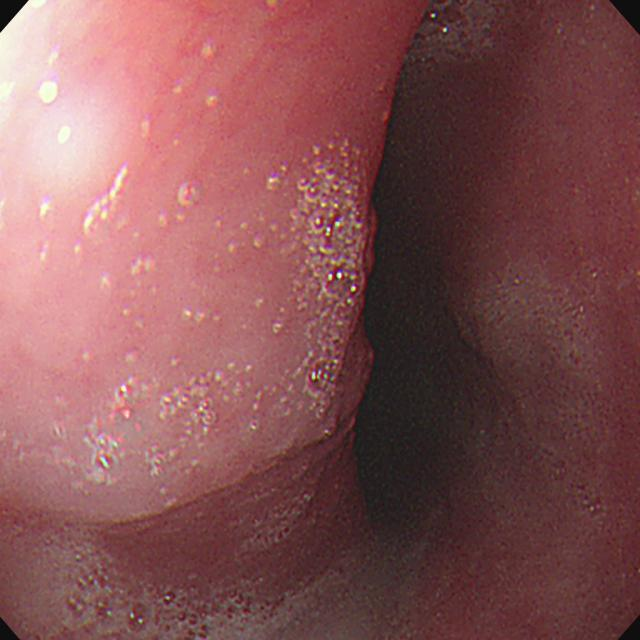T: (295, 147, 370, 435), (62, 567, 281, 640)
